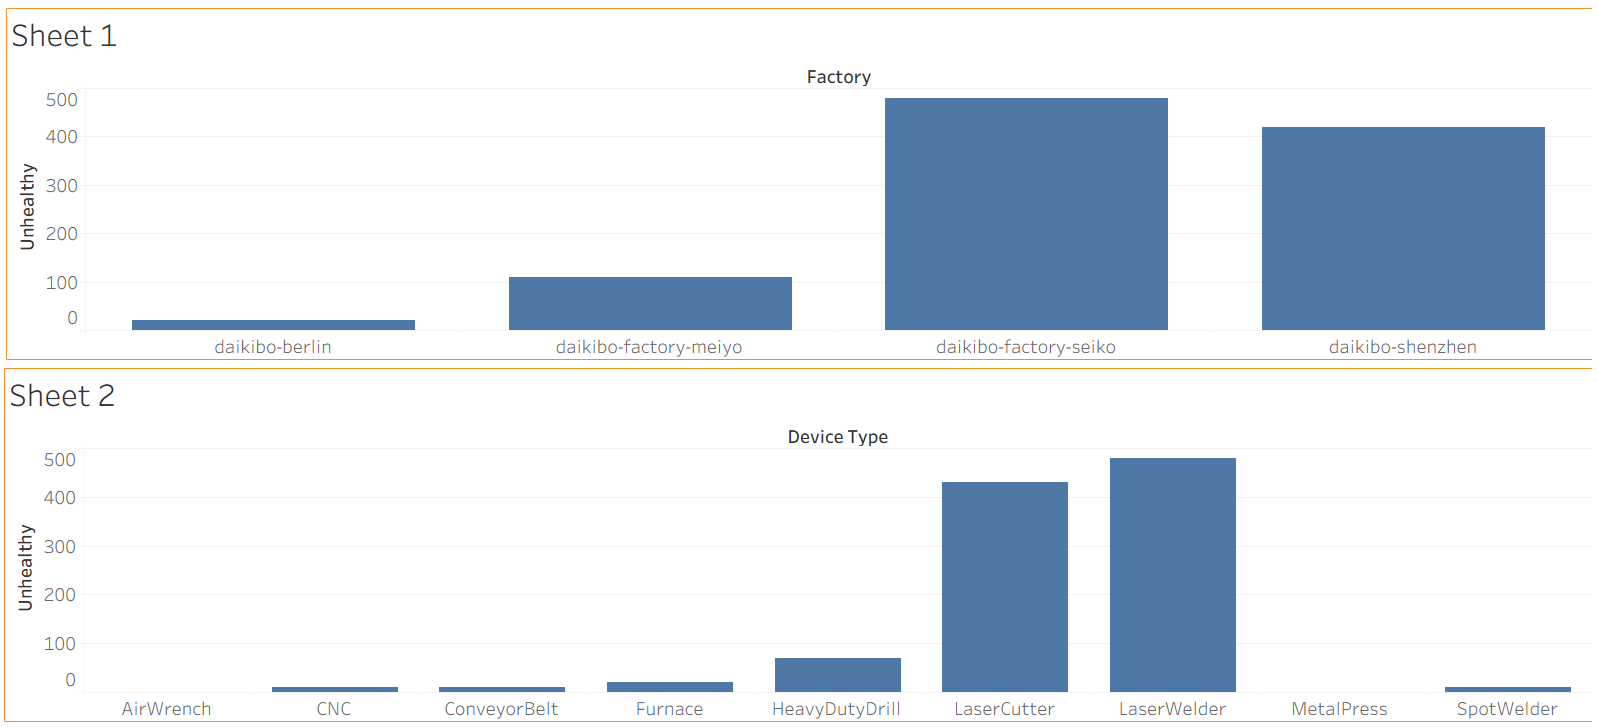

The page's visual inventory and layout, read from the dashboard file:
{"tool":"tableau","page":{"name":"Dashboard 1","canvas":[1000,1000],"units":"permille","ordinal":0},"visuals":[{"type":"worksheet","title":"Sheet 1","mark":"Automatic","rows":["Calculation_1413848838645272576"],"cols":["factory"],"box":[7.5,28.2,989.4,471.9]},{"type":"worksheet","title":"Sheet 2","mark":"Automatic","rows":["Calculation_1413848838645272576"],"cols":["deviceType"],"box":[6.2,510.7,990.6,474.5]}]}

Visuals, with their boxes on the dashboard's canvas, which has no fixed pixel size, in thousandths of its width and height (x1, y1, x2, y2). These are canvas units, not pixel positions in the 1597x727 screenshot, which may show the page scaled, cropped or inside an application window:
"Sheet 1" worksheet: BBox(8, 28, 997, 500)
"Sheet 2" worksheet: BBox(6, 511, 997, 985)
